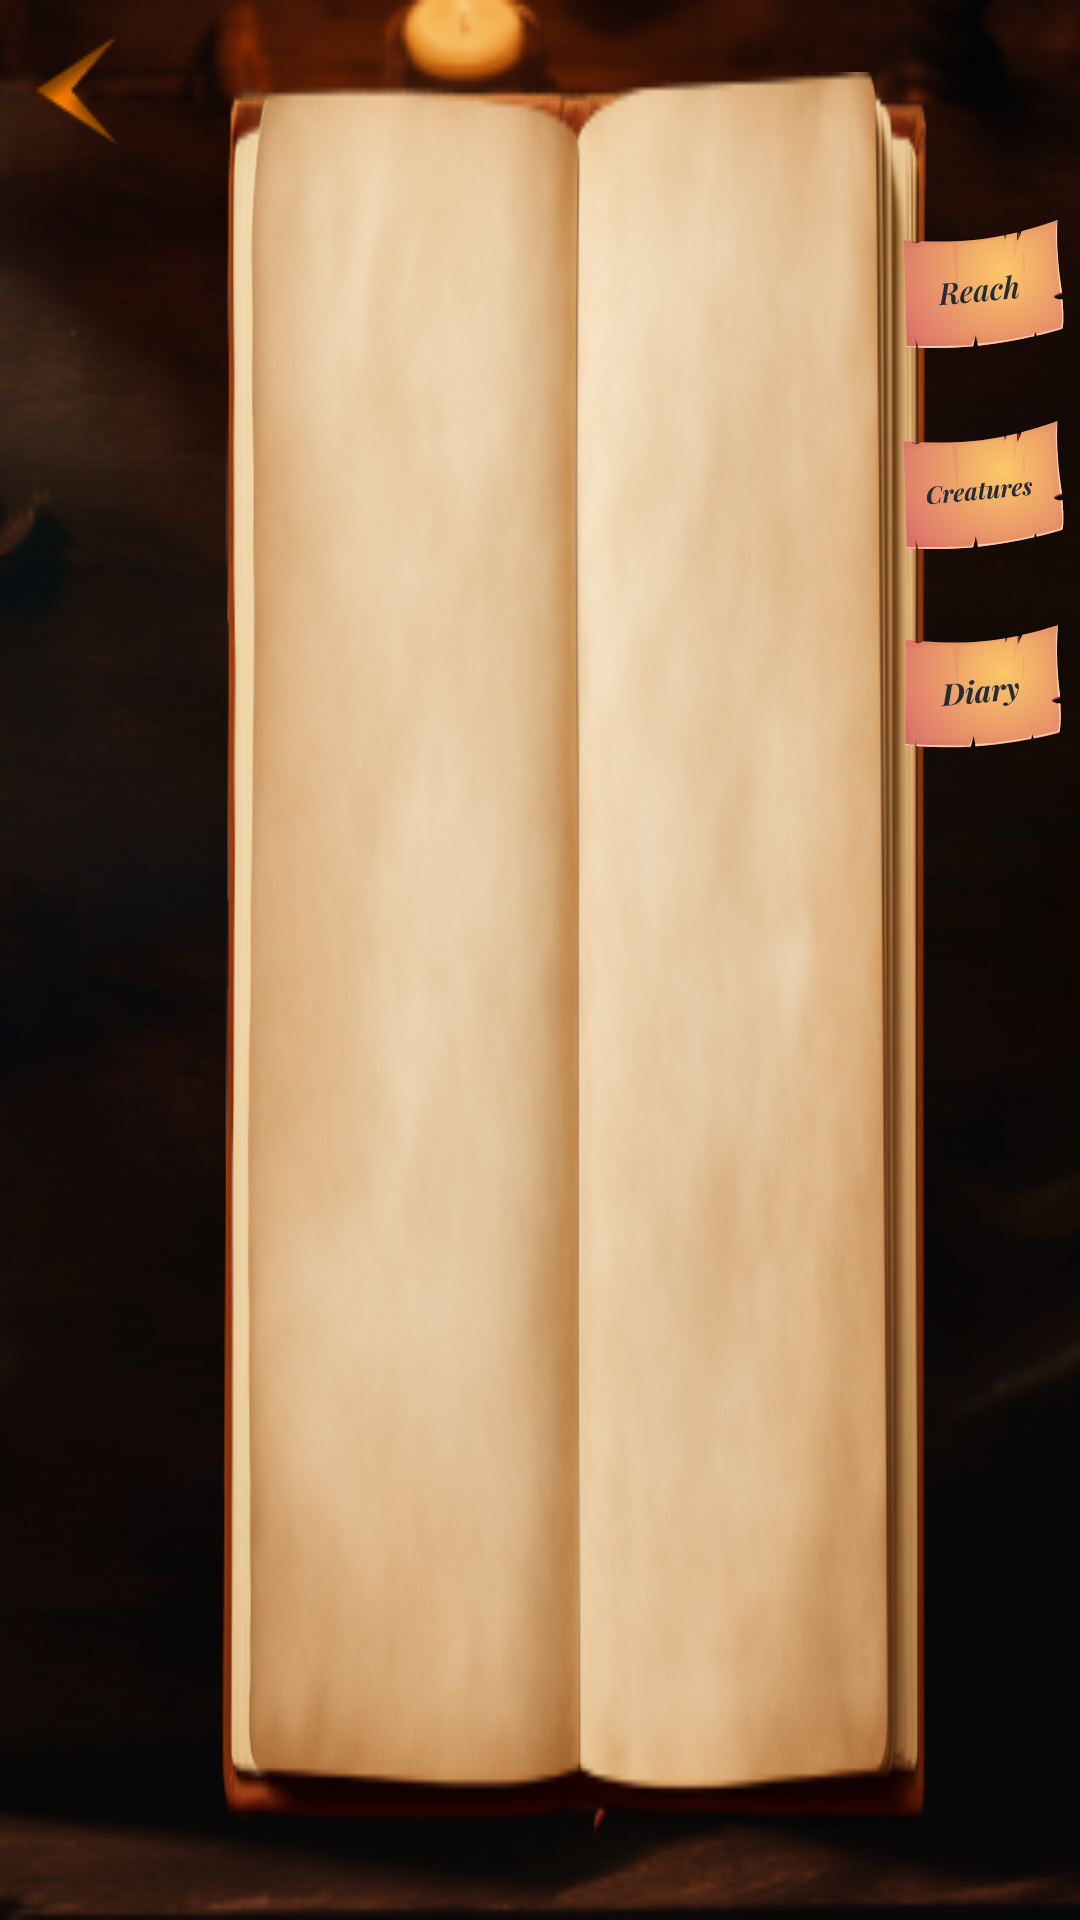

Screen size 1080 x 1920. Icon name, then its box in pixels as (left=x1, top=y1, right=x2, bottom=y2):
back: (left=36, top=38, right=114, bottom=142)
